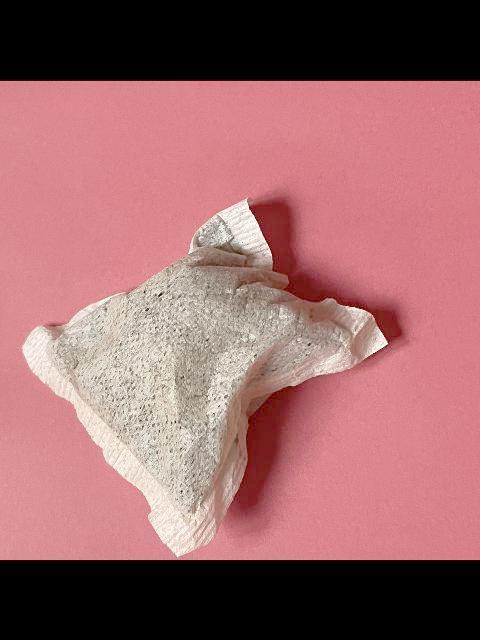teabag: (20, 196, 392, 556)
